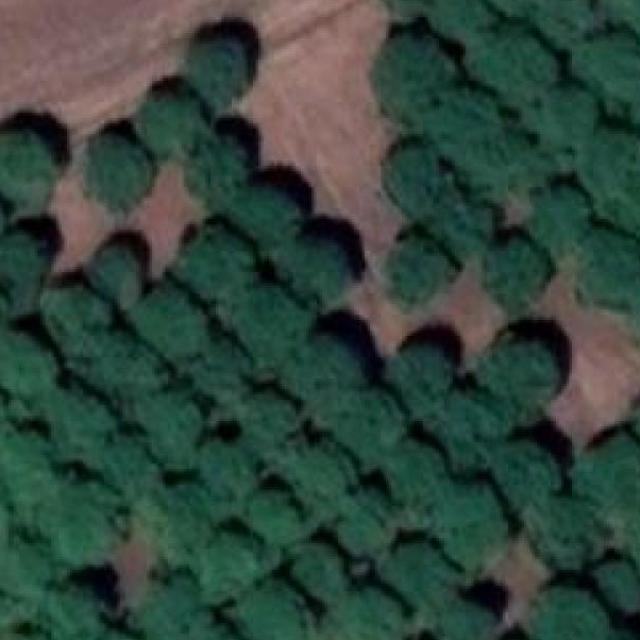Tree: (457, 17, 559, 98), (428, 384, 508, 471), (83, 322, 159, 412), (176, 526, 269, 596), (478, 336, 562, 412), (136, 570, 227, 640), (429, 488, 508, 566), (44, 477, 120, 558), (0, 421, 59, 525), (573, 423, 640, 511), (371, 40, 448, 116), (232, 286, 298, 372), (521, 79, 601, 149), (0, 525, 57, 623), (423, 86, 497, 160), (530, 490, 598, 570), (133, 275, 200, 356), (177, 228, 255, 296), (36, 381, 106, 456), (42, 277, 110, 353), (232, 575, 311, 640), (288, 339, 363, 406), (140, 81, 206, 157), (480, 238, 548, 311), (81, 139, 149, 212), (590, 171, 640, 269), (575, 237, 640, 312), (493, 442, 556, 519), (145, 384, 207, 462), (462, 132, 532, 201), (87, 429, 159, 496), (332, 392, 402, 460), (573, 31, 640, 102), (339, 479, 402, 554), (290, 538, 360, 605), (528, 185, 591, 258), (182, 339, 253, 403), (563, 131, 640, 190), (295, 434, 354, 509), (384, 235, 446, 306), (280, 243, 350, 305), (153, 479, 216, 546), (385, 148, 447, 216), (234, 391, 303, 452), (330, 582, 402, 640), (384, 345, 455, 403), (185, 134, 242, 206), (248, 480, 306, 550), (196, 435, 255, 503), (231, 192, 301, 246), (385, 437, 444, 501), (0, 132, 51, 206), (531, 589, 604, 640), (385, 541, 447, 601), (0, 330, 53, 396), (534, 0, 598, 53), (187, 38, 243, 98), (589, 554, 640, 618), (86, 246, 136, 306), (435, 208, 492, 256), (40, 586, 99, 630), (431, 601, 495, 640), (431, 0, 493, 40), (0, 230, 49, 280), (367, 0, 455, 22), (622, 70, 640, 173), (617, 0, 640, 69), (463, 0, 558, 14), (64, 626, 152, 640), (0, 378, 19, 432), (0, 621, 46, 640), (593, 628, 640, 640), (0, 196, 9, 230), (492, 635, 537, 640), (0, 290, 7, 320)
